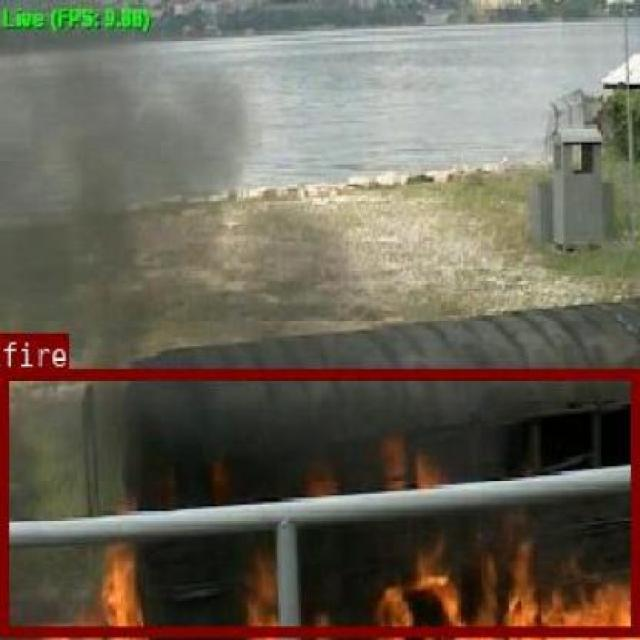fire: (0, 366, 637, 634)
